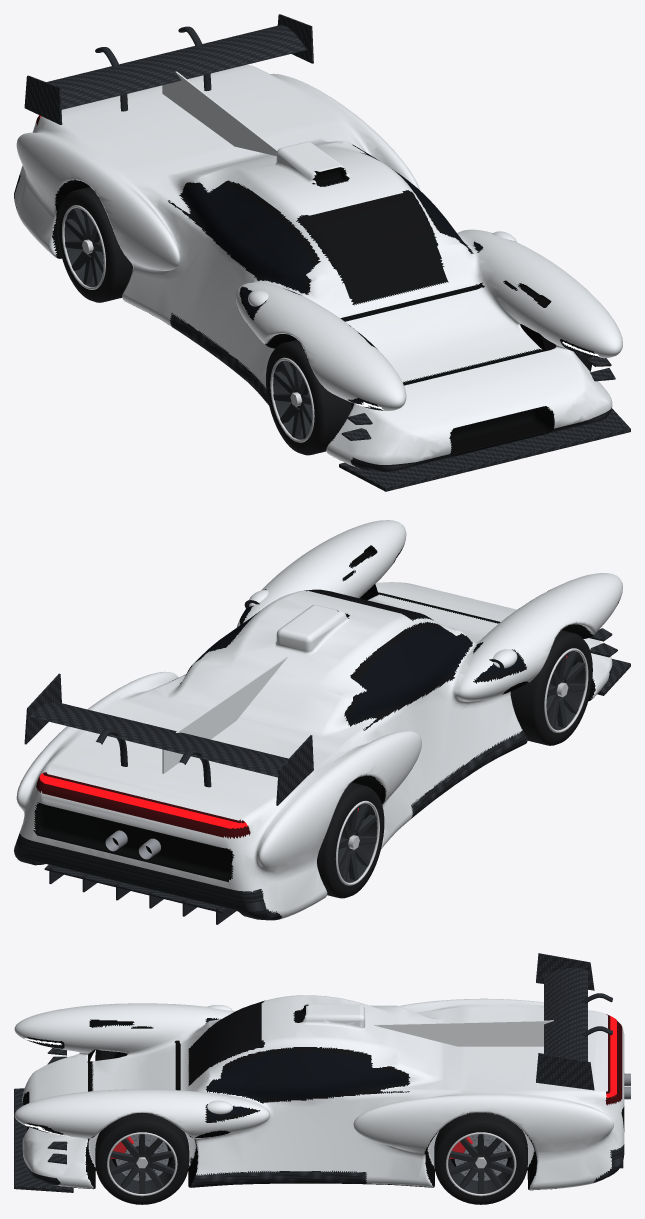
The model's file is original_gt_racecar_v4.glb.
3 views of the same model, one above another, from view 1: azimuth 30°, elevation 25°; view 2: azimuth 150°, elevation 25°; view 3: azimuth 270°, elevation 25° (orthographic). The views are drawn at different scales.
Parts seen in each view (by area): view 1: Body_Paint, Window_Trim, GT_Rear_Wing, Body_Glass, Intakes_And_Vents, Front_Splitter, Wheel_FR_Tyre, Wheel_RR_Tyre, Shark_Fin, Body_Carbon, Wheel_FR_Rim, Wheel_RR_Rim (+2 smaller); view 2: Body_Paint, GT_Rear_Wing, Intakes_And_Vents, Body_Carbon, Body_Glass, Wheel_FR_Tyre, Window_Trim, Taillight_Lenses, Wheel_RR_Tyre, Shark_Fin, Wheel_FR_Rim, Wheel_RR_Rim (+4 smaller); view 3: Body_Paint, Body_Glass, GT_Rear_Wing, Window_Trim, Wheel_RL_Tyre, Wheel_FL_Tyre, Shark_Fin, Body_Carbon, Intakes_And_Vents, Wheel_FL_Rim, Wheel_RL_Rim, Front_Splitter (+7 smaller).
Boxes of the visible parts, <box> form: Body_Paint: <box>14,64,622,468</box>; Window_Trim: <box>168,144,483,320</box>; GT_Rear_Wing: <box>24,14,313,124</box>; Body_Glass: <box>183,148,481,314</box>; Intakes_And_Vents: <box>52,167,554,456</box>; Front_Splitter: <box>339,408,630,491</box>; Wheel_FR_Tyre: <box>266,339,351,455</box>; Wheel_RR_Tyre: <box>57,187,132,302</box>; Shark_Fin: <box>162,71,277,155</box>; Body_Carbon: <box>14,174,612,472</box>; Wheel_FR_Rim: <box>273,360,312,439</box>; Wheel_RR_Rim: <box>64,208,103,287</box>; Body_Paint: <box>16,520,622,919</box>; GT_Rear_Wing: <box>24,673,313,805</box>; Intakes_And_Vents: <box>33,545,595,882</box>; Body_Carbon: <box>14,667,611,920</box>; Body_Glass: <box>197,605,522,722</box>; Wheel_FR_Tyre: <box>510,630,592,745</box>; Window_Trim: <box>172,589,526,730</box>; Taillight_Lenses: <box>36,772,250,838</box>; Wheel_RR_Tyre: <box>317,782,384,898</box>; Shark_Fin: <box>162,656,287,773</box>; Wheel_FR_Rim: <box>546,651,585,730</box>; Wheel_RR_Rim: <box>338,803,377,882</box>; Body_Paint: <box>14,995,624,1189</box>; Body_Glass: <box>209,1018,406,1118</box>; GT_Rear_Wing: <box>536,953,612,1090</box>; Window_Trim: <box>188,1000,409,1122</box>; Wheel_RL_Tyre: <box>434,1112,527,1204</box>; Wheel_FL_Tyre: <box>95,1113,189,1204</box>; Shark_Fin: <box>373,1020,553,1046</box>; Body_Carbon: <box>25,1144,624,1186</box>; Intakes_And_Vents: <box>22,1004,624,1190</box>; Wheel_FL_Rim: <box>109,1134,175,1193</box>; Wheel_RL_Rim: <box>448,1134,513,1193</box>; Front_Splitter: <box>14,1088,73,1192</box>.
Size of the model in its own units: 2.02 by 1.26 by 4.73.
16 materials, 2 textured.
